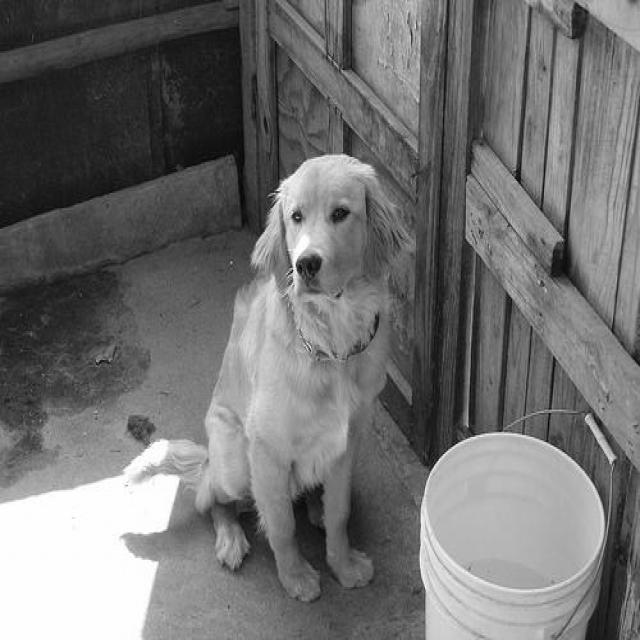sitting: (120, 148, 417, 606)
